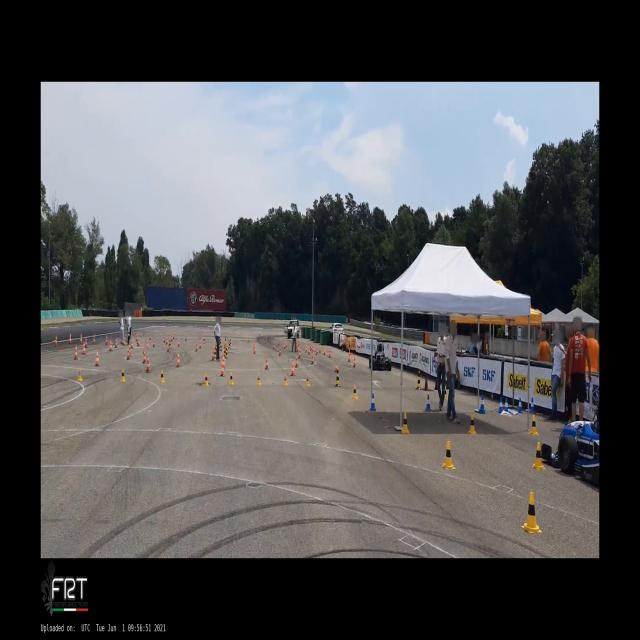blue_cone: (479, 395, 485, 412), (425, 394, 431, 410), (370, 394, 376, 409), (498, 397, 503, 413), (530, 398, 534, 412), (518, 398, 522, 412), (505, 398, 508, 411)
large_orange_cone: (94, 350, 100, 366), (145, 356, 151, 372), (290, 360, 296, 376), (220, 359, 225, 377), (176, 352, 181, 367), (126, 347, 131, 360), (211, 346, 215, 362), (74, 345, 78, 360), (265, 356, 269, 370), (109, 338, 113, 352), (54, 334, 58, 347), (79, 332, 83, 345), (84, 335, 88, 348), (82, 342, 86, 354), (68, 332, 72, 344), (114, 336, 118, 348), (142, 351, 146, 363), (328, 346, 332, 358), (353, 353, 356, 368), (334, 358, 337, 372), (105, 333, 108, 346), (348, 350, 351, 363), (253, 343, 256, 354), (278, 345, 281, 355), (137, 336, 140, 346), (195, 342, 198, 352), (199, 339, 202, 349), (323, 345, 326, 355), (319, 344, 322, 354), (163, 335, 166, 343), (312, 352, 314, 364), (178, 336, 180, 347), (93, 334, 95, 345), (147, 339, 149, 350), (296, 357, 298, 368), (299, 347, 301, 358), (123, 336, 125, 346), (131, 339, 133, 349), (153, 337, 155, 347), (203, 335, 205, 344), (316, 346, 318, 355), (166, 336, 168, 344), (168, 344, 170, 352), (171, 334, 173, 342), (265, 336, 267, 344), (273, 342, 275, 350), (306, 344, 308, 352), (308, 346, 310, 354), (284, 342, 286, 349), (173, 332, 174, 340)
unknown_cone: (416, 370, 422, 390), (335, 368, 341, 386), (424, 377, 428, 391), (225, 345, 228, 359), (169, 339, 171, 349), (230, 337, 232, 347), (228, 341, 230, 349), (215, 348, 216, 358)
yellow_cone: (522, 492, 542, 533), (531, 442, 546, 470), (442, 441, 456, 469), (529, 414, 539, 436), (467, 413, 477, 434), (402, 412, 409, 433), (352, 385, 358, 399), (120, 368, 126, 382), (204, 373, 209, 386), (229, 372, 234, 384), (284, 372, 288, 386), (257, 372, 261, 386), (160, 370, 164, 383), (306, 374, 310, 386), (78, 368, 82, 380), (444, 387, 448, 398)
